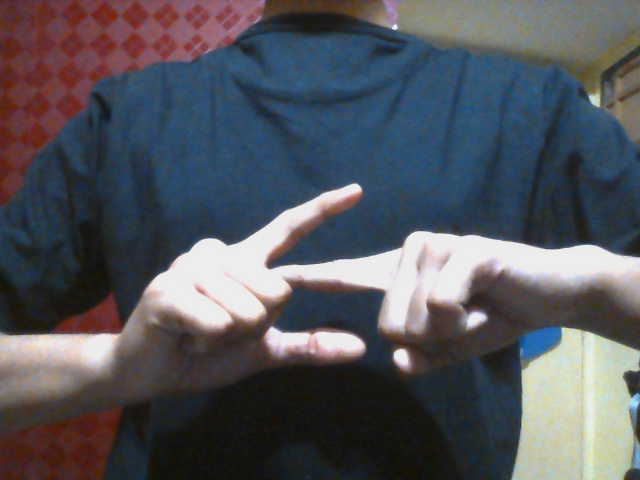E: (149, 180, 518, 379)
